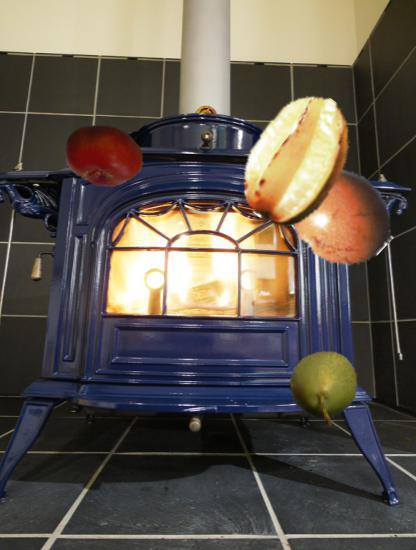Carambula: (229, 91, 368, 230)
Granadilla: (269, 145, 398, 274)
Nectarine: (64, 116, 144, 196)
Pear: (285, 350, 363, 428)
